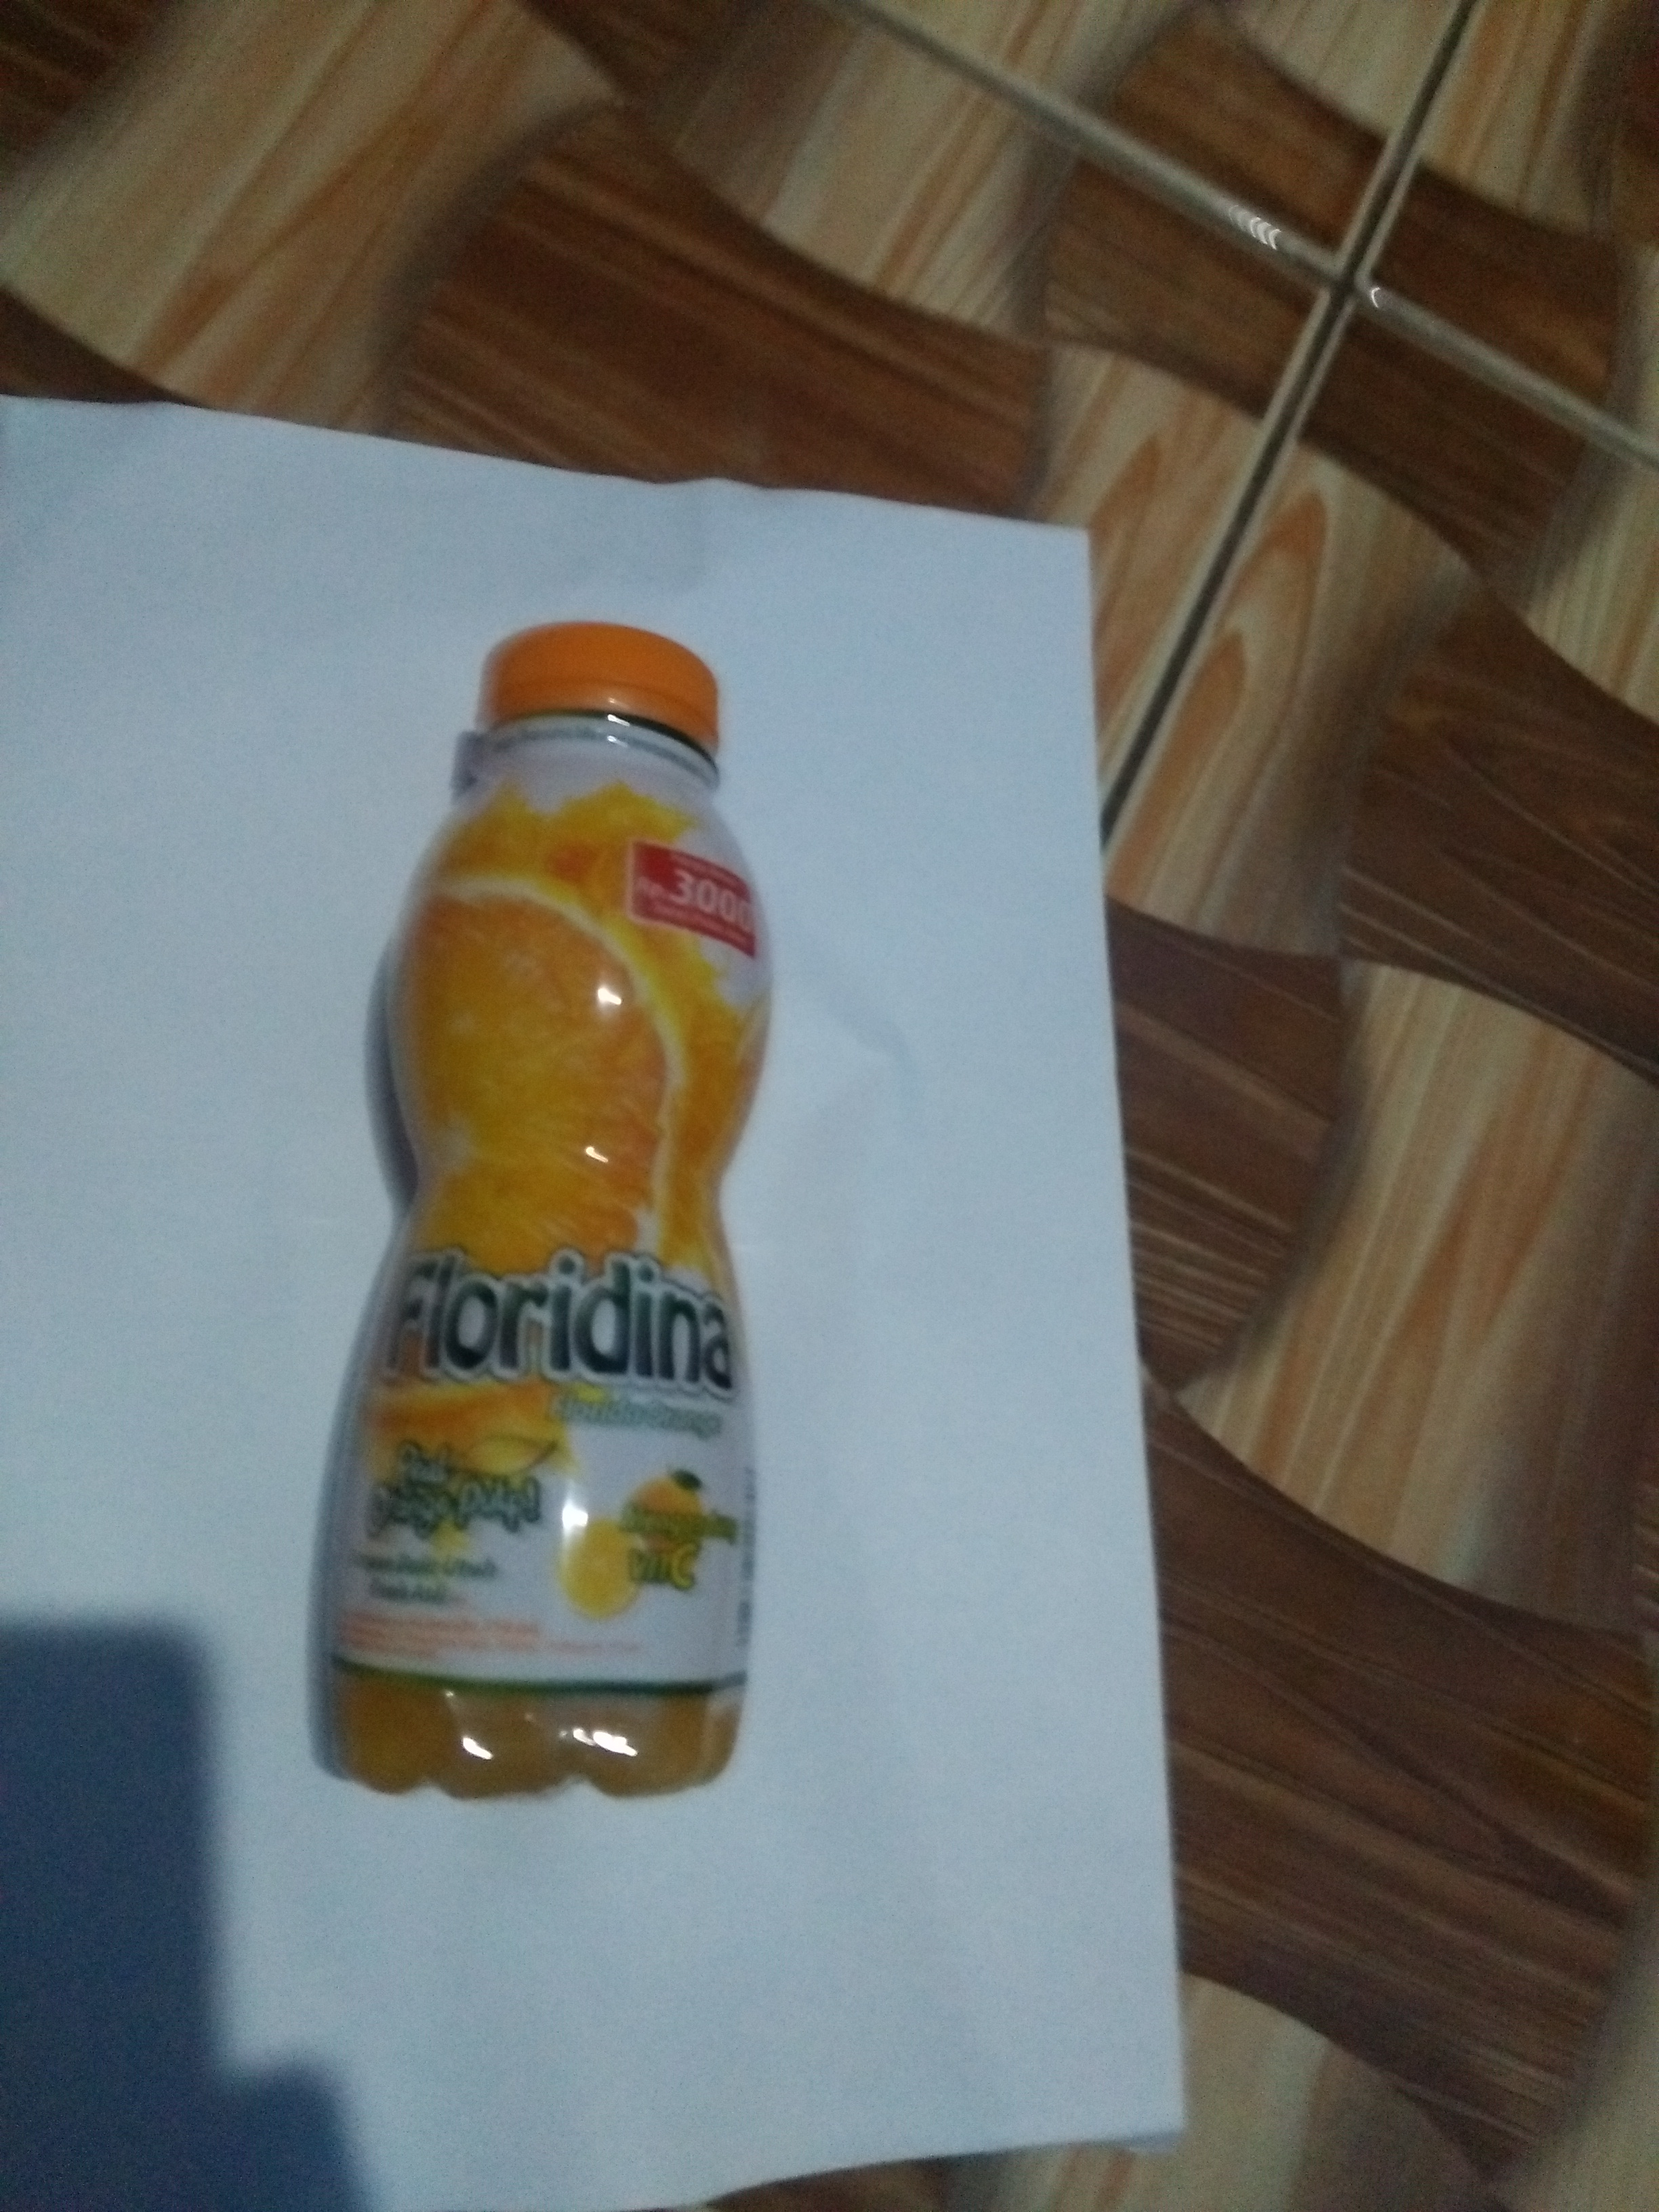Floridina: (286, 604, 809, 1811)
